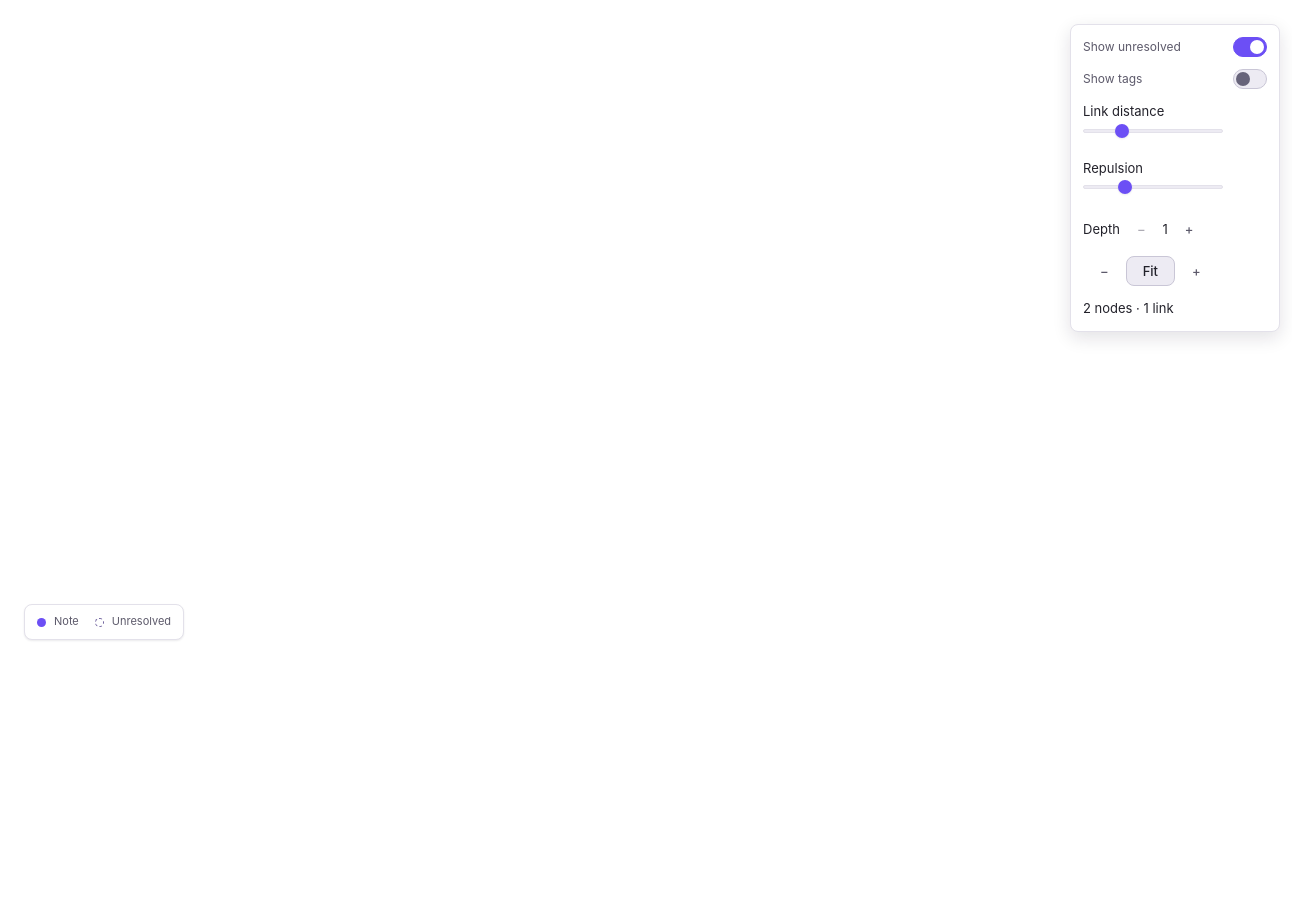
Test: GraphView › restricts a local graph to the focused note and widens it with the depth stepper
This screenshot has width=1304, height=912.
expect the text "2 nodes · 1 link" is shown: met, box [1083,300,1174,316]
Click the button named "Increase depth" at (1189, 229), box [1168,214,1211,244]
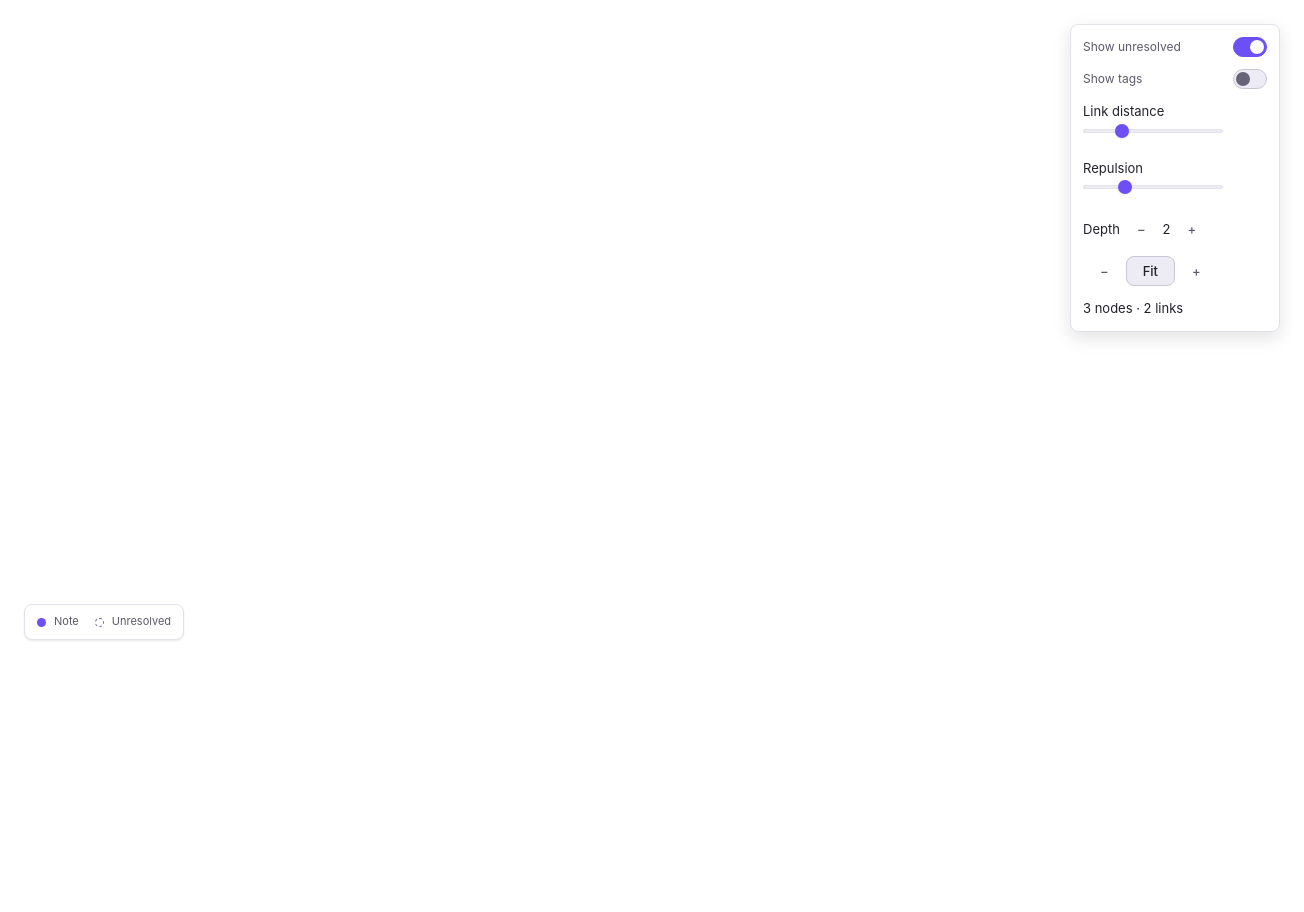
expect the text "3 nodes · 2 links" is shown: met, box [1083,300,1183,316]
Click the button named "Decrease depth" at (1141, 229), box [1120,214,1163,244]
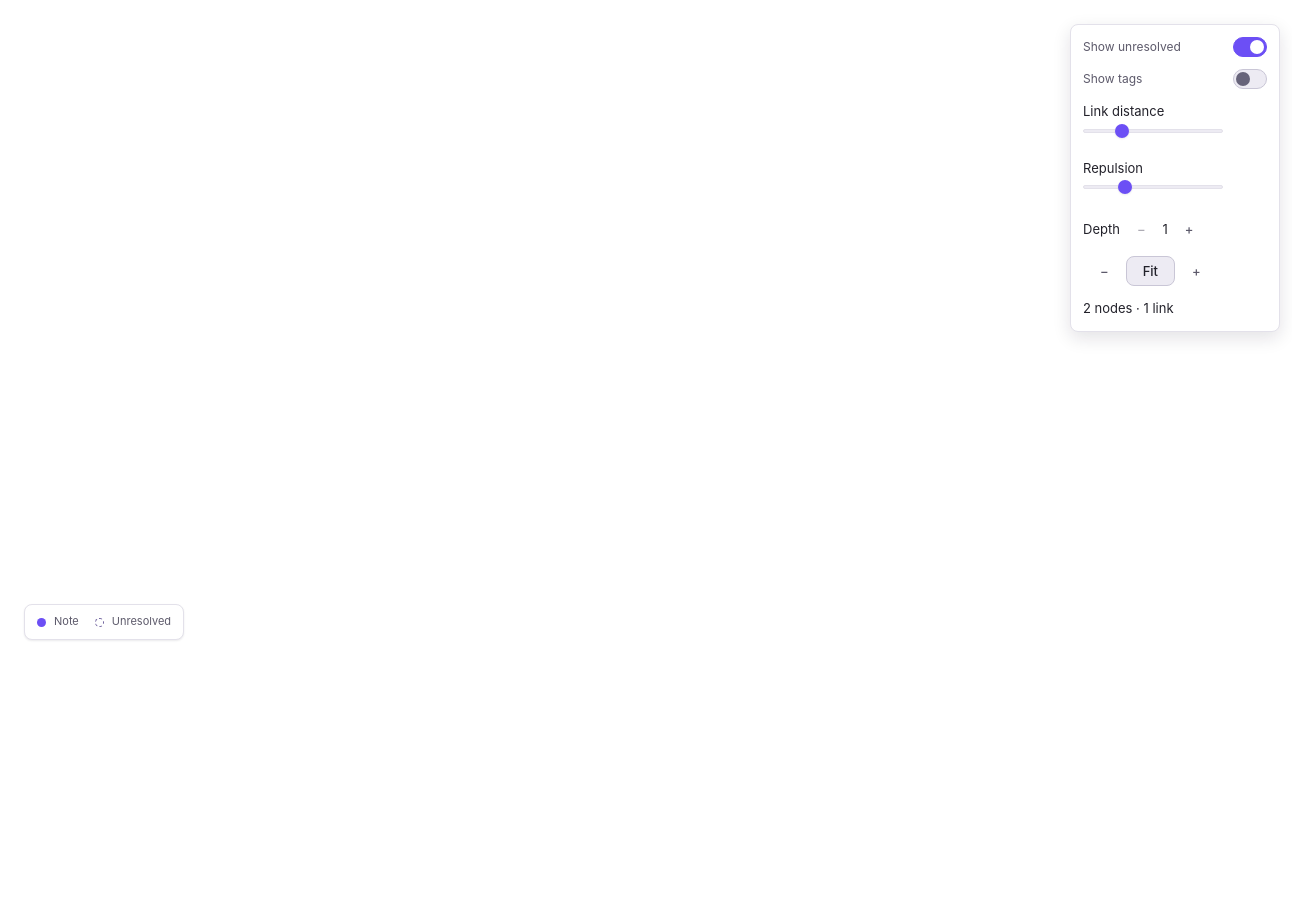
expect the text "2 nodes · 1 link" is shown: met, box [1083,300,1174,316]
